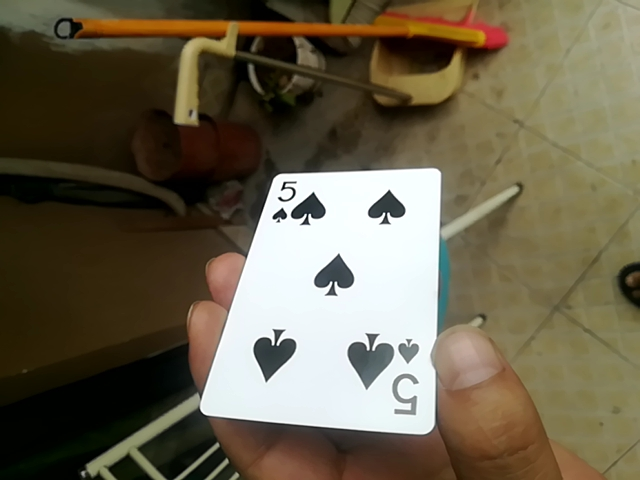ht 5: (194, 164, 445, 436)
